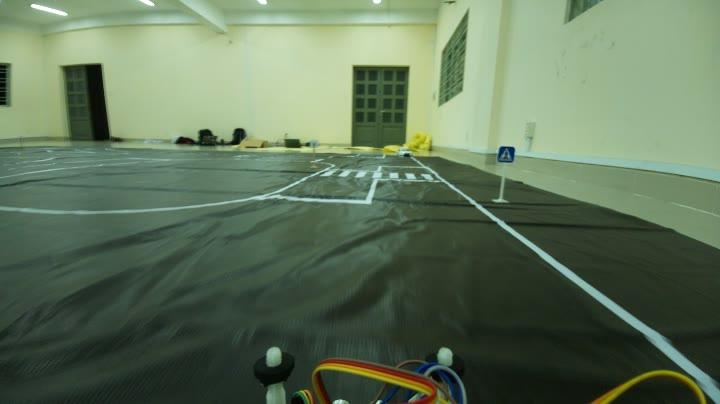crosswalk: (494, 140, 521, 168)
